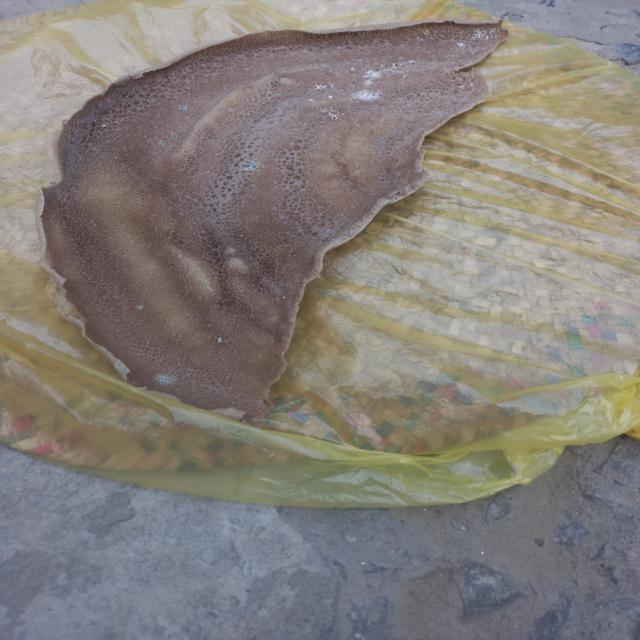injera_mold: (388, 59, 419, 77), (350, 86, 380, 104), (358, 66, 384, 84), (318, 108, 344, 120), (472, 28, 498, 39), (154, 374, 177, 386), (240, 159, 262, 171), (313, 82, 331, 92), (132, 303, 150, 313), (114, 360, 126, 372), (176, 104, 191, 112), (214, 335, 226, 345), (110, 116, 123, 123), (155, 139, 168, 146), (420, 29, 435, 35), (456, 83, 467, 91), (90, 116, 100, 124), (458, 42, 467, 49), (101, 123, 109, 130), (469, 80, 474, 91), (416, 36, 424, 42), (305, 99, 319, 102), (349, 65, 354, 73), (378, 137, 388, 141), (344, 104, 354, 108), (205, 81, 211, 87), (326, 95, 335, 98), (406, 103, 412, 107), (281, 296, 286, 300), (471, 52, 475, 56), (284, 102, 288, 105), (195, 84, 201, 85), (304, 124, 307, 125)
